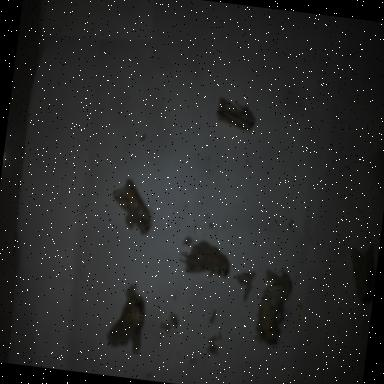abw: (249, 261, 298, 355), (100, 278, 154, 360), (104, 172, 162, 240), (173, 233, 238, 284), (338, 240, 380, 316), (209, 89, 268, 142)
